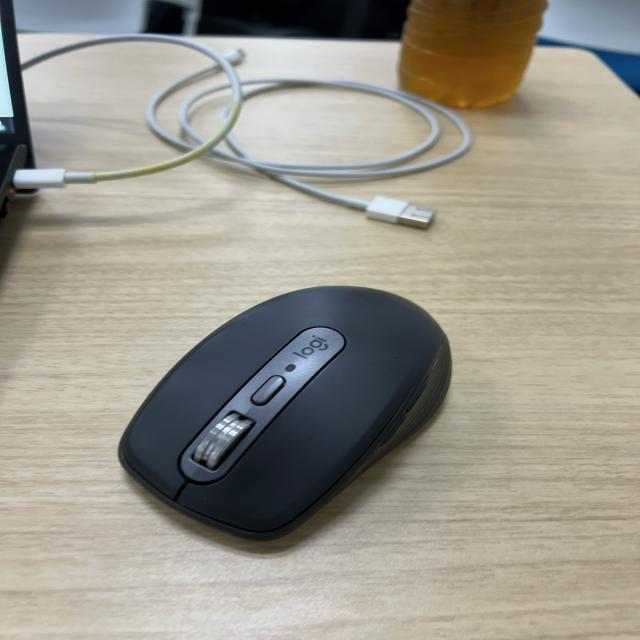mouse: (113, 292, 495, 542)
